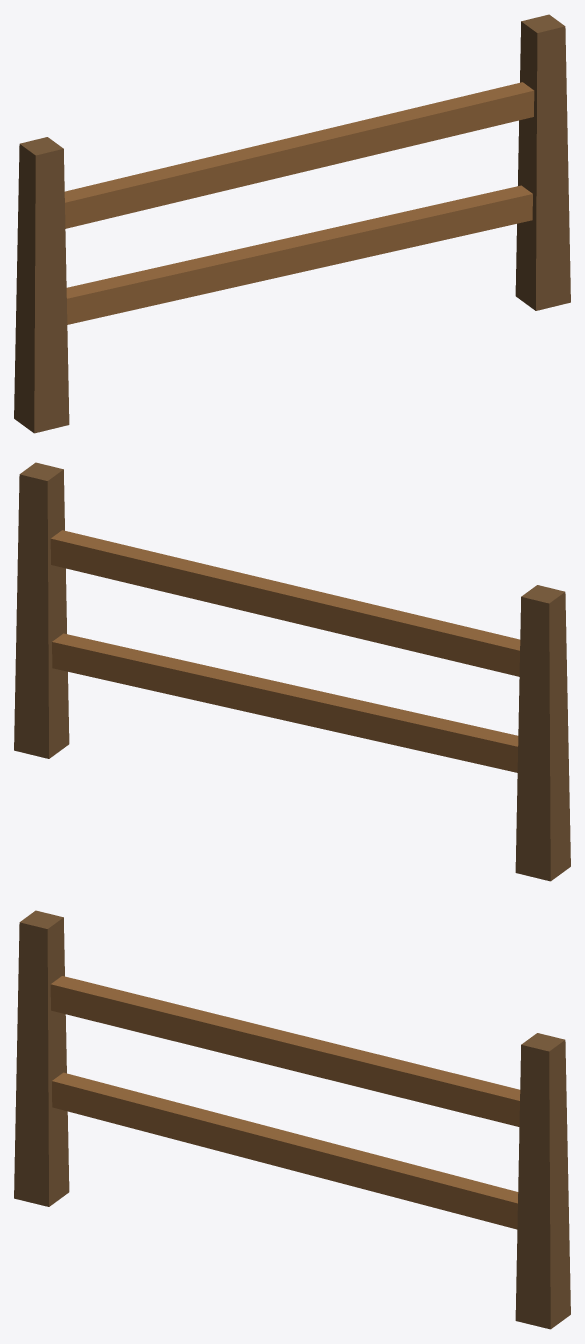
Rendered from fence_rail.glb.
3 views of the same model, one above another, from view 1: azimuth 30°, elevation 25°; view 2: azimuth 150°, elevation 25°; view 3: azimuth 330°, elevation 25° (orthographic).
Parts seen in each view (by area): view 1: fence_rail; view 2: fence_rail; view 3: fence_rail.
Boxes of the visible parts, box(x1,y1,x2,y2) form: fence_rail: box(14, 14, 570, 433); fence_rail: box(14, 462, 570, 881); fence_rail: box(14, 910, 570, 1329).
Size of what is drawn, in the model's own units: 2.14 by 1.05 by 0.14.
